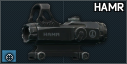Leupold Mark 4 HAMR 4x24mm DeltaPoint hybrid assault scope: (0, 0, 127, 64)
